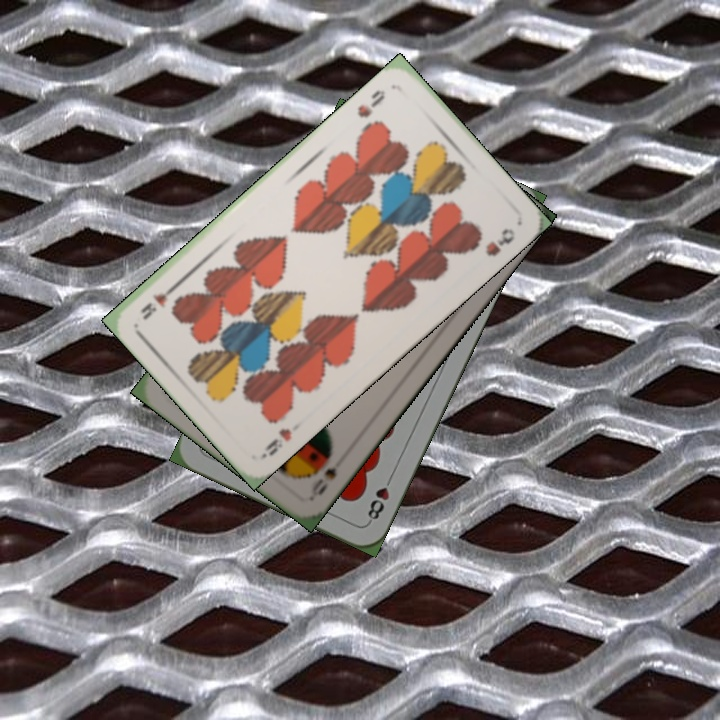H8: (363, 470, 396, 526)
H9: (257, 424, 295, 461), (353, 85, 388, 121)
SO: (307, 463, 339, 501)
